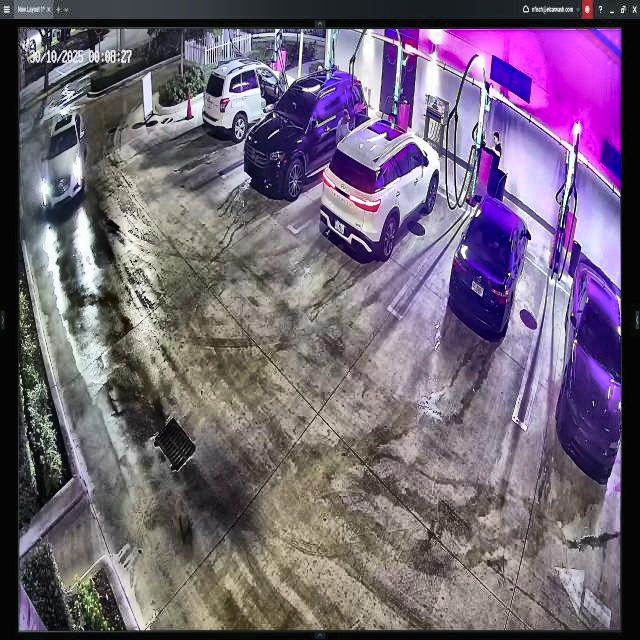Car: (322, 113, 439, 261), (244, 67, 368, 196), (449, 193, 531, 337)
